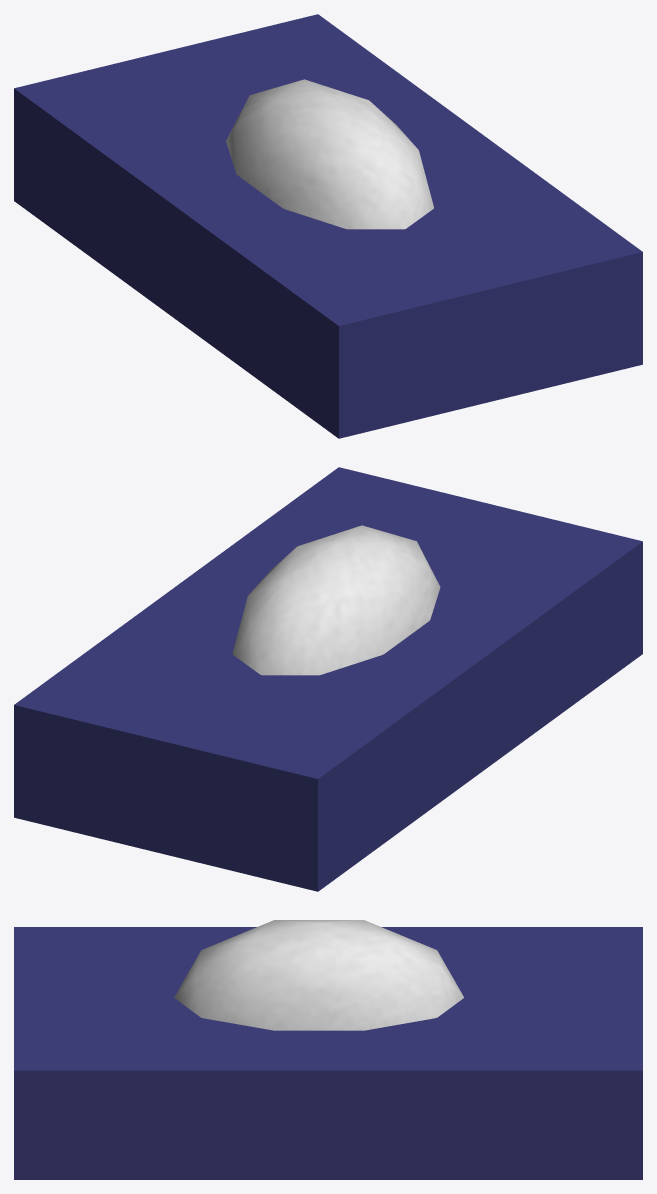
Rendered from cotton box.FBX.
3 renders of one model, top to bottom at view 1: azimuth 30°, elevation 25°; view 2: azimuth 150°, elevation 25°; view 3: azimuth 270°, elevation 25°, orthographic. The views are drawn at different scales.
Visible parts, largest first — view 1: cotton box; view 2: cotton box; view 3: cotton box.
Part boxes in pixels (x1,y1,x2,y2): cotton box: (14,14,642,438); cotton box: (14,467,642,891); cotton box: (14,920,642,1179).
Size of the model in its own units: 5.94 by 10.98 by 3.52.
